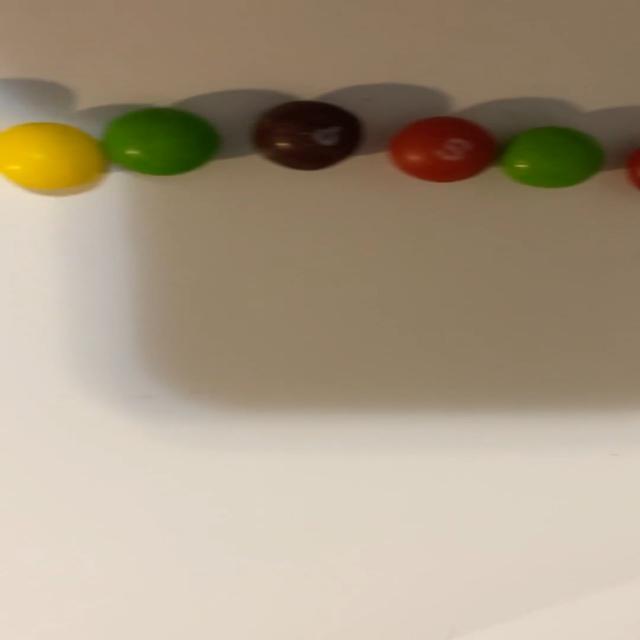smartie: (101, 107, 218, 175), (255, 100, 360, 170), (389, 116, 495, 182), (0, 122, 104, 188), (501, 126, 604, 187)
